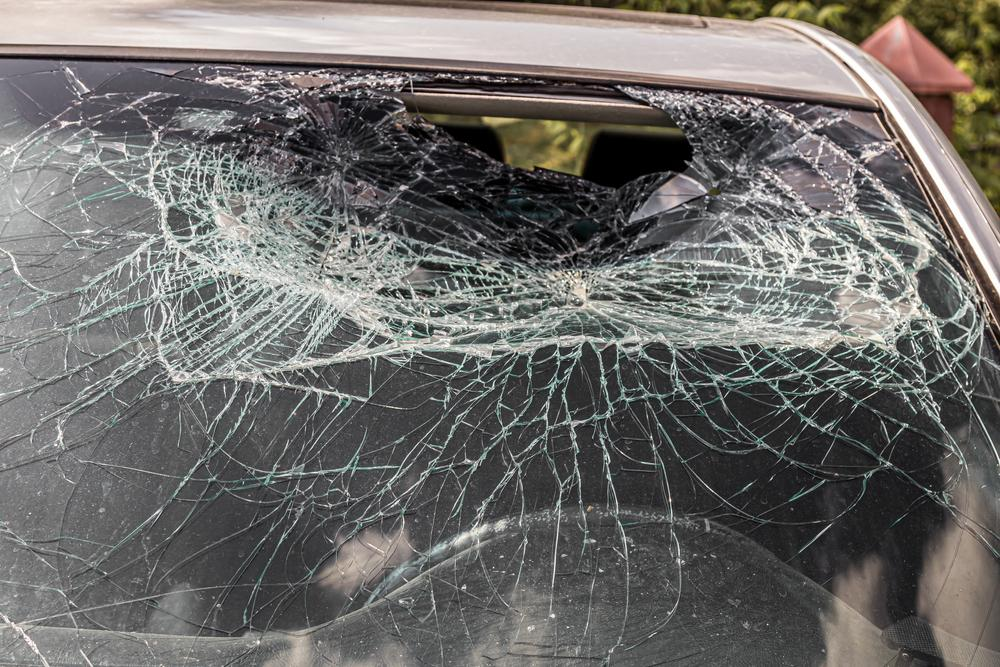glass shatter: (0, 56, 1000, 667)
